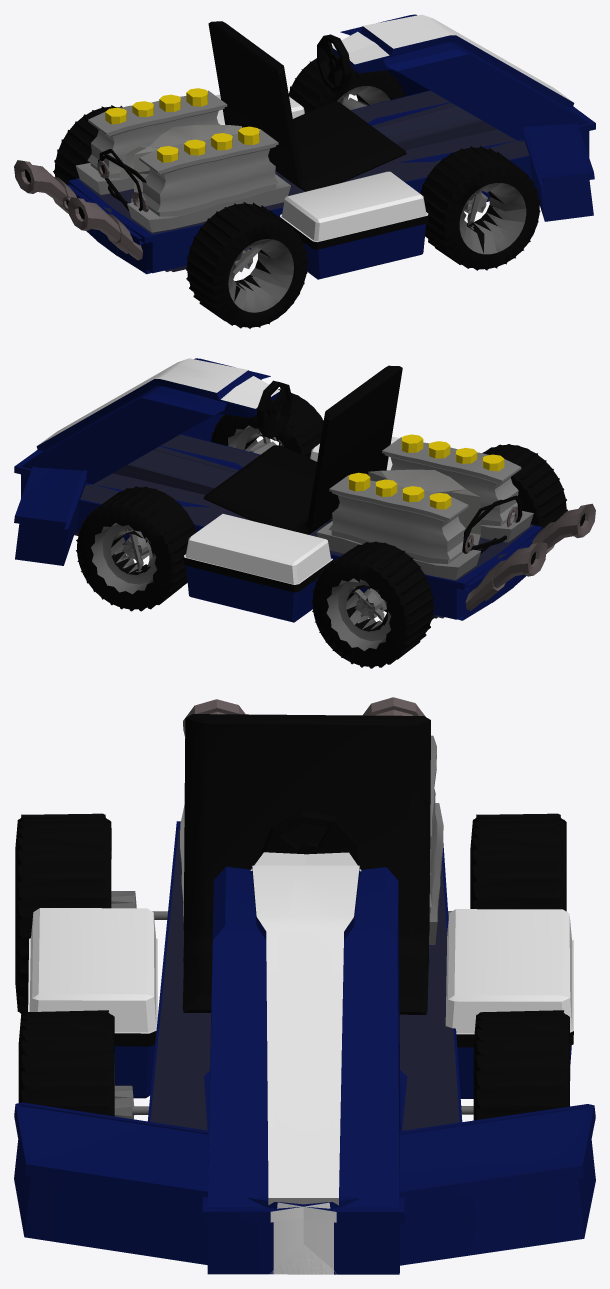
Rendered from KartGabriel.fbx.
3 views of the same model, one above another, from view 1: azimuth 30°, elevation 25°; view 2: azimuth 150°, elevation 25°; view 3: azimuth 270°, elevation 25° (orthographic). The views are drawn at different scales.
Visible parts, largest first — view 1: Cube, MotorR, Banco, Roda.002, Cube.002, Roda.004, Cylinder, Roda.001, Cilíndro R, Roda.003, Gasolina, Volante (+2 smaller); view 2: Cube, Banco, MotorR, Cube.001, Roda.003, Roda.001, Cylinder, Roda.004, Roda.002, Cilíndro R, Gasolina, Volante (+2 smaller); view 3: Cube, Banco, Cube.002, Cube.001, Roda.002, Roda.001, Roda.004, Roda.003, Volante, MotorR, Cylinder, Ligação Roda.001.
Part boxes in pixels (x1,y1,x2,y2): Cube: (67,14,595,274); MotorR: (76,90,290,232); Banco: (208,21,406,191); Roda.002: (185,202,308,328); Cube.002: (279,171,428,279); Roda.004: (420,146,540,270); Cylinder: (14,160,142,260); Roda.001: (288,54,405,113); Cilíndro R: (105,88,259,162); Roda.003: (53,105,122,184); Gasolina: (119,125,241,202); Volante: (317,34,351,92); Cube: (14,358,542,620); Banco: (203,365,402,534); MotorR: (316,437,533,579); Cube.001: (184,514,332,622); Roda.003: (311,541,434,668); Roda.001: (76,486,196,611); Cylinder: (465,503,595,610); Roda.004: (211,389,323,458); Roda.002: (482,444,567,528); Cilíndro R: (348,434,504,509); Gasolina: (368,469,480,550); Volante: (257,380,292,438); Cube: (14,821,595,1274); Banco: (182,714,430,1014); Cube.002: (28,908,157,1098); Cube.001: (445,909,573,1098); Roda.002: (15,813,111,1014); Roda.001: (473,1010,570,1120); Roda.004: (18,1010,114,1116); Roda.003: (470,813,566,911); Volante: (260,810,357,864); MotorR: (180,735,443,944); Cylinder: (183,697,425,737); Ligação Roda.001: (111,891,473,1119).
Bounding box in the file's own units: 1066 × 406 × 604.
